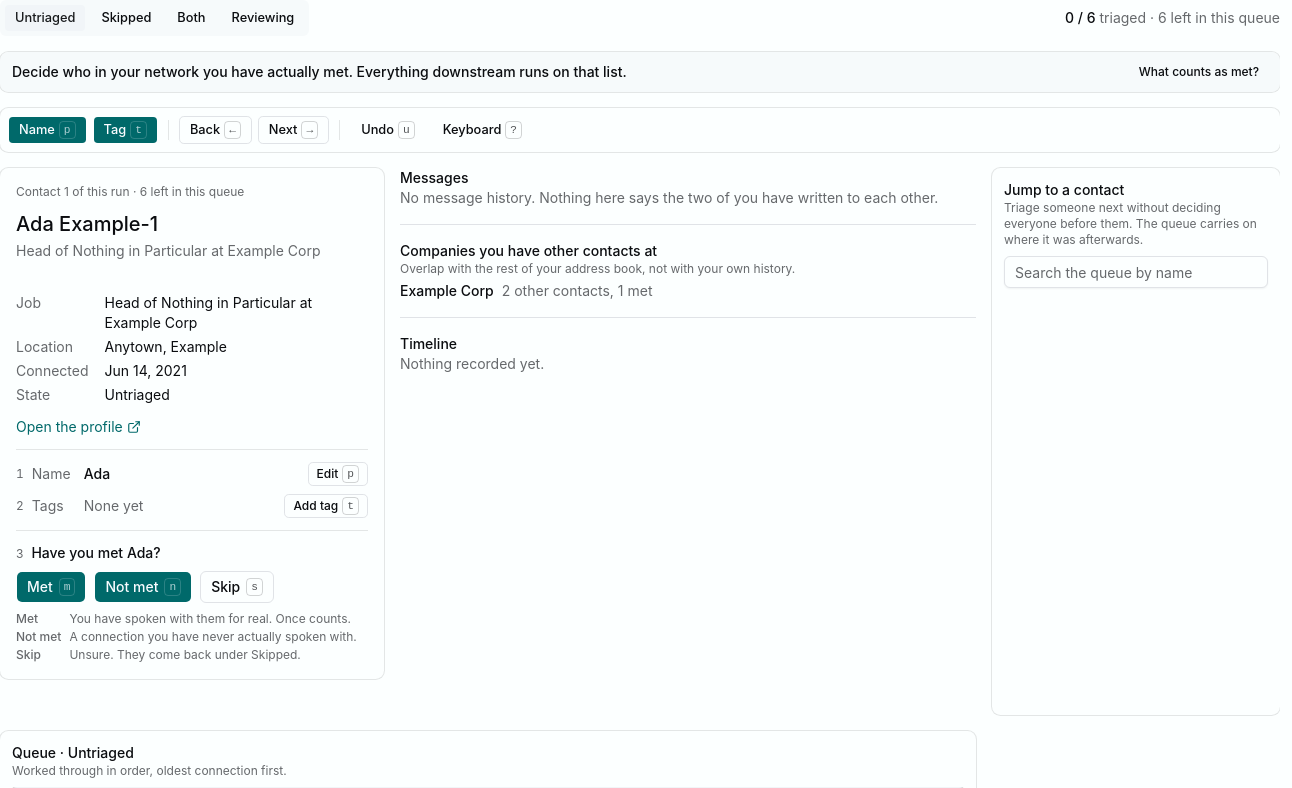
Test: the on-screen controls › costs no round trip, the same as the keyboard
The image size is (1292, 788).
Click the button "Met m": click(51, 587) [16,571,86,603]
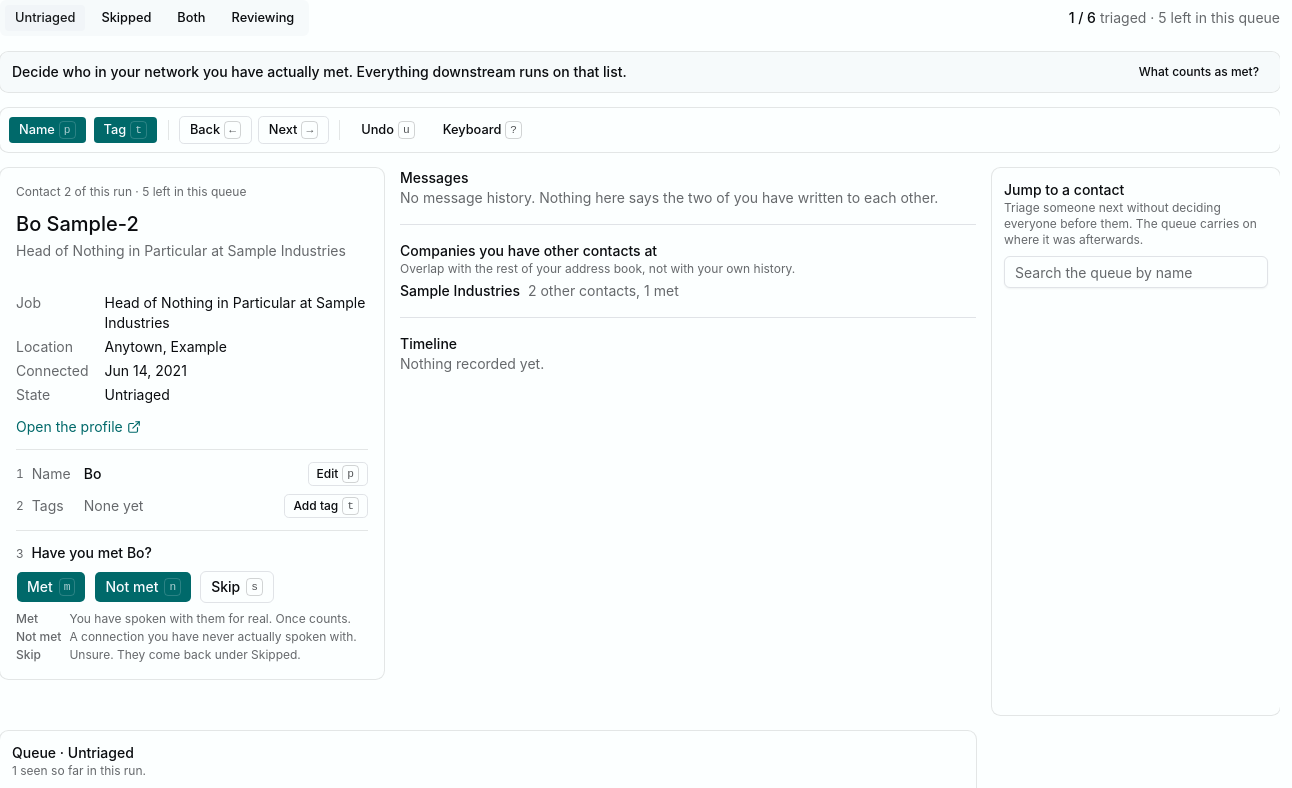
Expected: the heading no longer shows "Ada Example-1"
